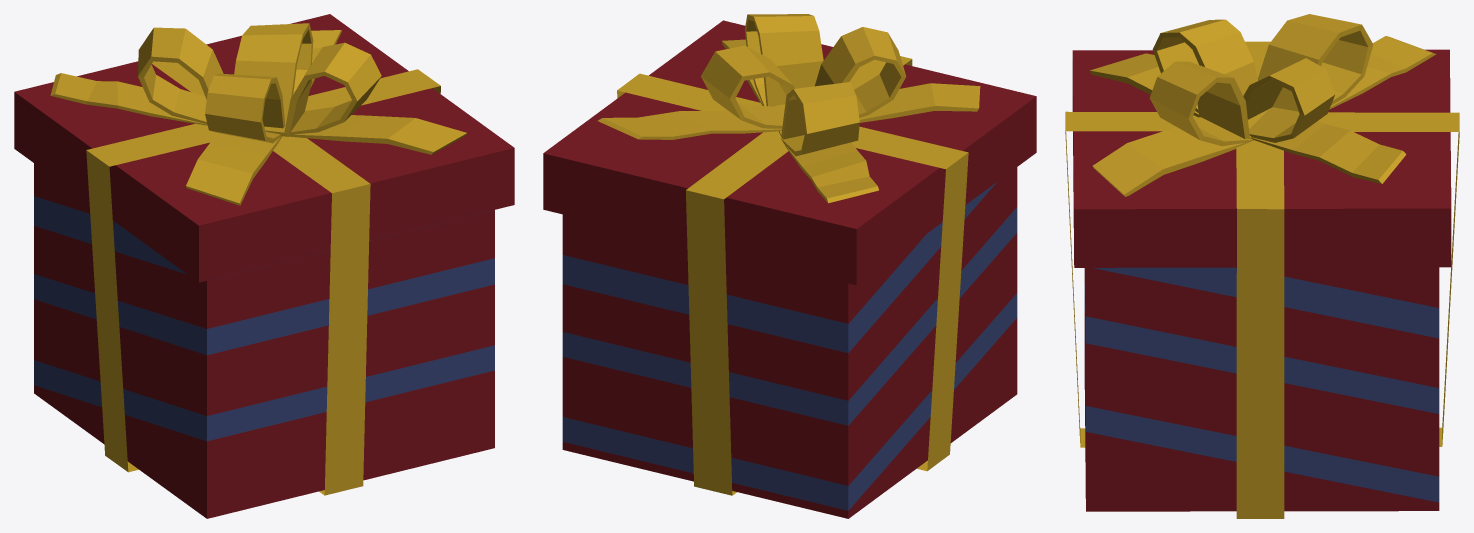
File: Present_big.fbx
3 renders of one model, left to right at view 1: azimuth 30°, elevation 25°; view 2: azimuth 150°, elevation 25°; view 3: azimuth 270°, elevation 25°, orthographic. The views are drawn at different scales.
Visible parts, largest first — view 1: Present_cube_decor; view 2: Present_cube_decor; view 3: Present_cube_decor.
Boxes of the visible parts, bbox=[...] form: Present_cube_decor: bbox=[14, 14, 514, 518]; Present_cube_decor: bbox=[543, 14, 1036, 518]; Present_cube_decor: bbox=[1065, 14, 1459, 518].
Size of the model in its own units: 0.1986 by 0.2203 by 0.1986.
